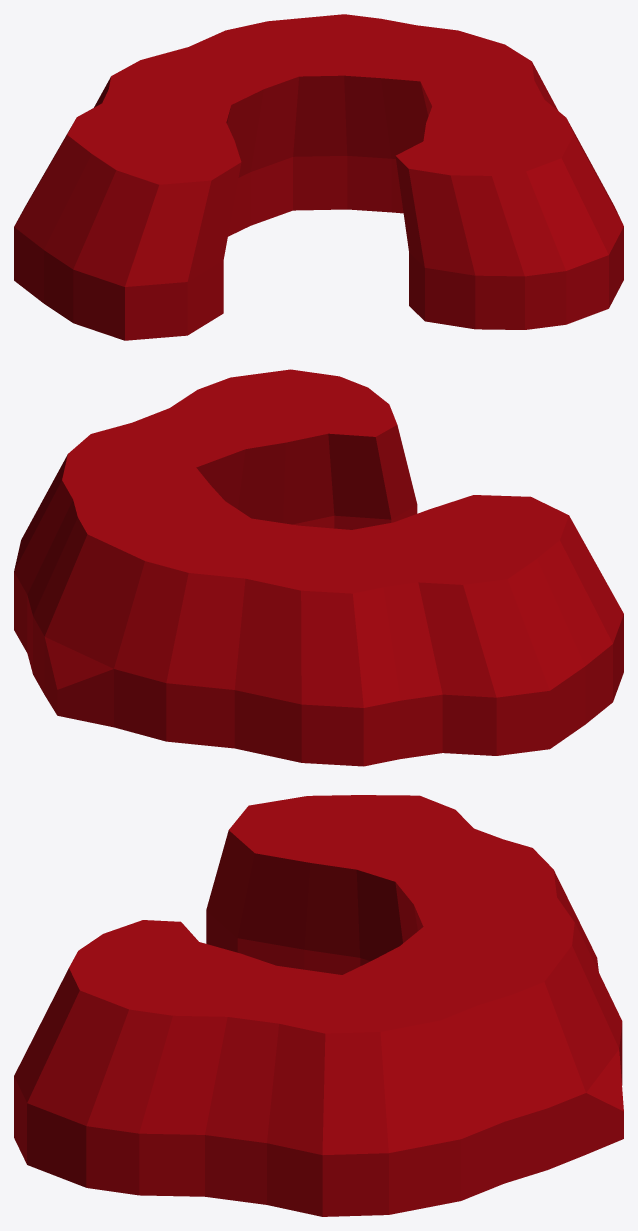
Rendered from RedObject2.fbx.
3 views of the same model, one above another, from view 1: azimuth 30°, elevation 25°; view 2: azimuth 150°, elevation 25°; view 3: azimuth 270°, elevation 25° (orthographic). The views are drawn at different scales.
Visible parts, largest first — view 1: RedObject2; view 2: RedObject2; view 3: RedObject2.
Part boxes in pixels (box(x1,y1,x2,y2)): RedObject2: box(14, 14, 623, 340); RedObject2: box(14, 369, 623, 766); RedObject2: box(14, 795, 623, 1216).
Bounding box in the file's own units: 6.38 × 1.67 × 5.73.
